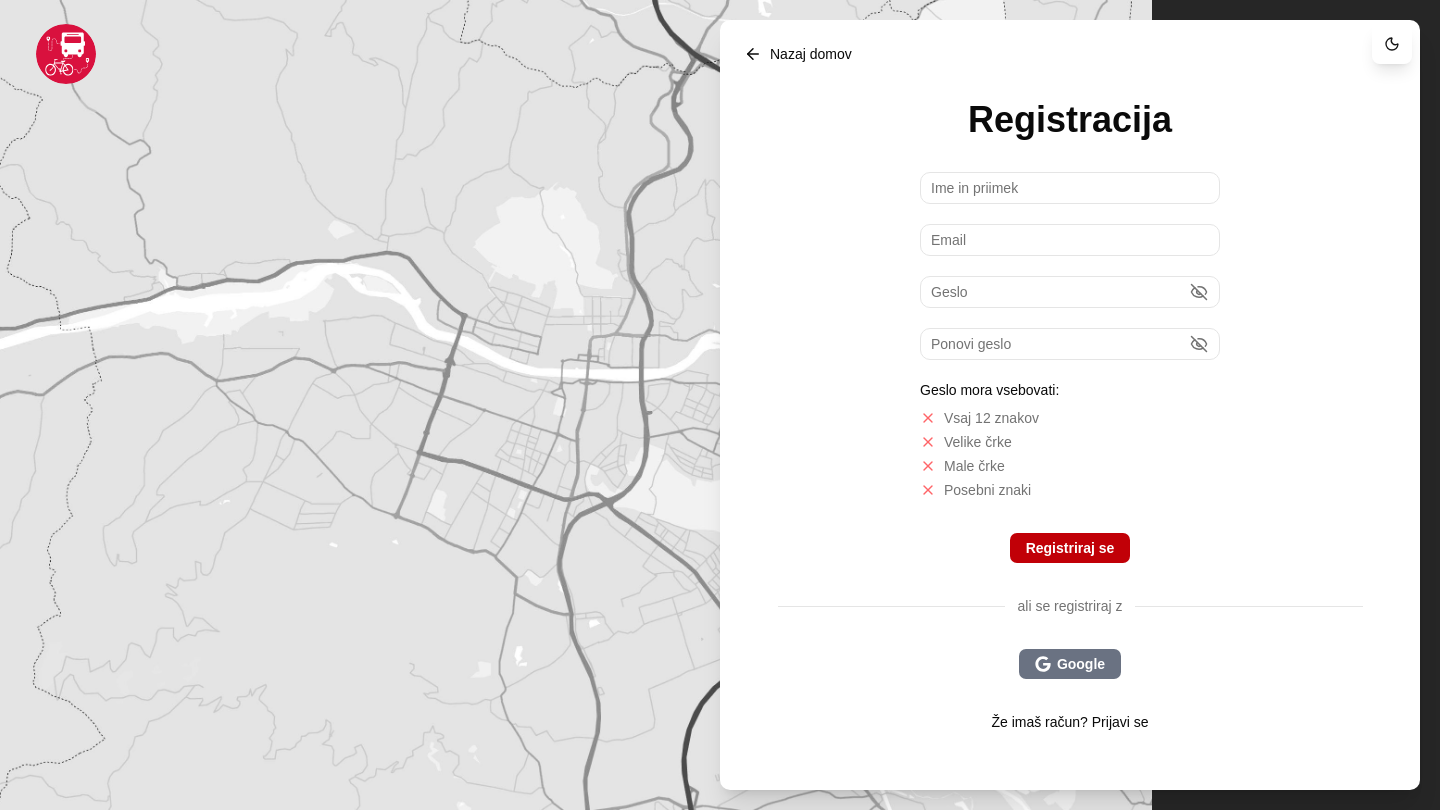
Test case: integracijski Login in Register › Register omogoča prikaz obeh gesel in navigacijo na login
Click the 1st button named "Prikaži geslo".
click(1199, 292)  # box [1190,283,1208,301]
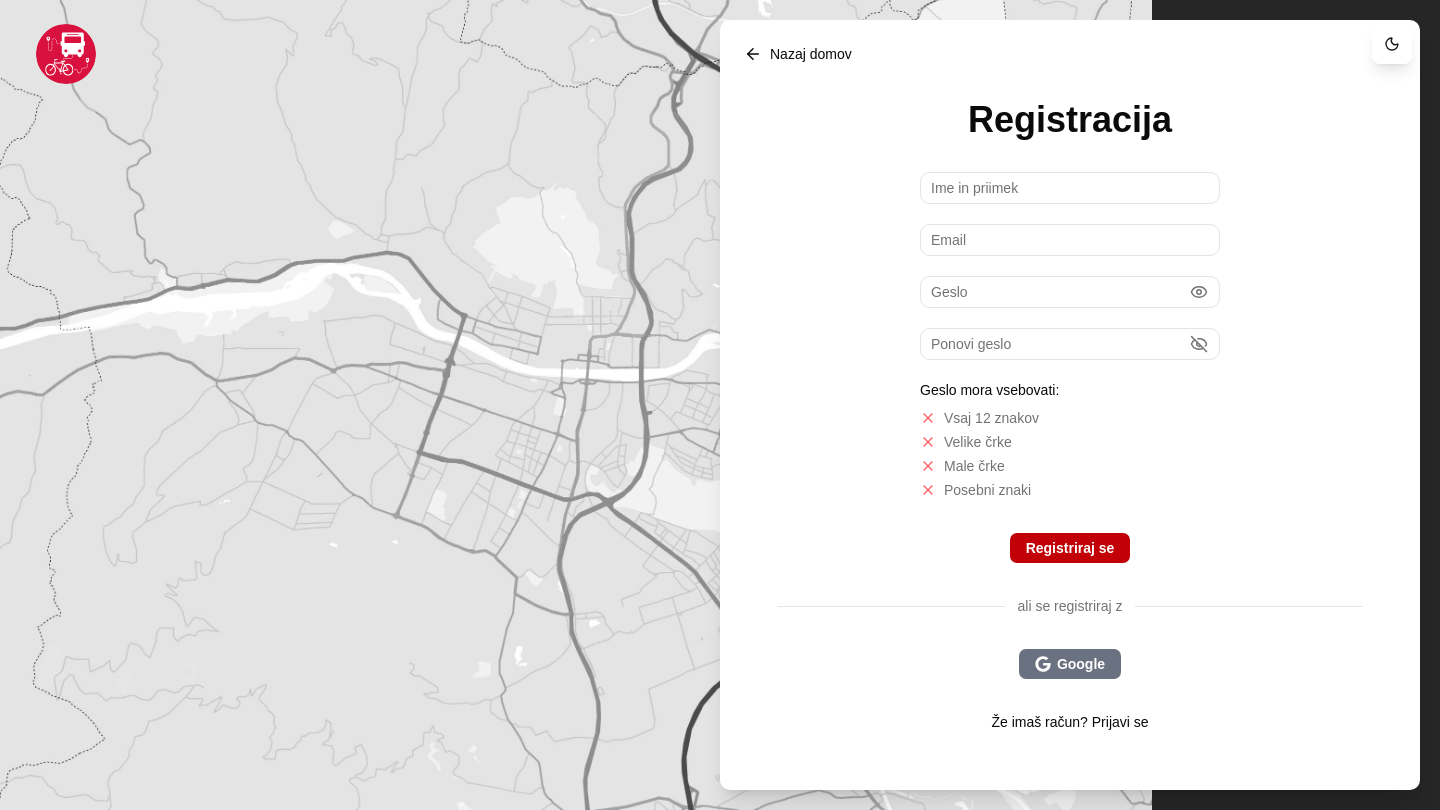
Click the button named "Prikaži geslo".
click(1199, 344)  # box [1190,335,1208,353]
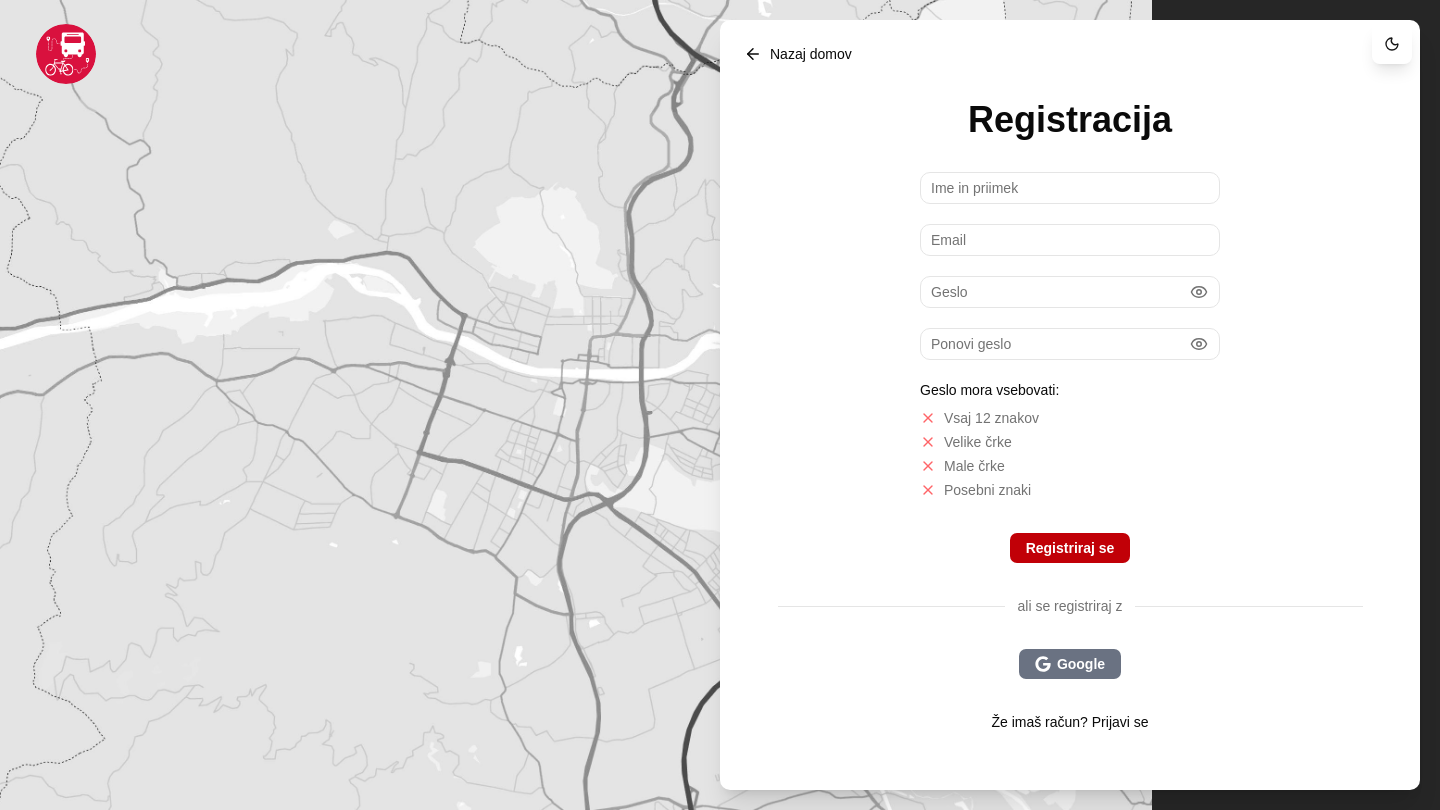
Click the button "Prijavi se".
click(1120, 722)  # box [1092,712,1149,732]
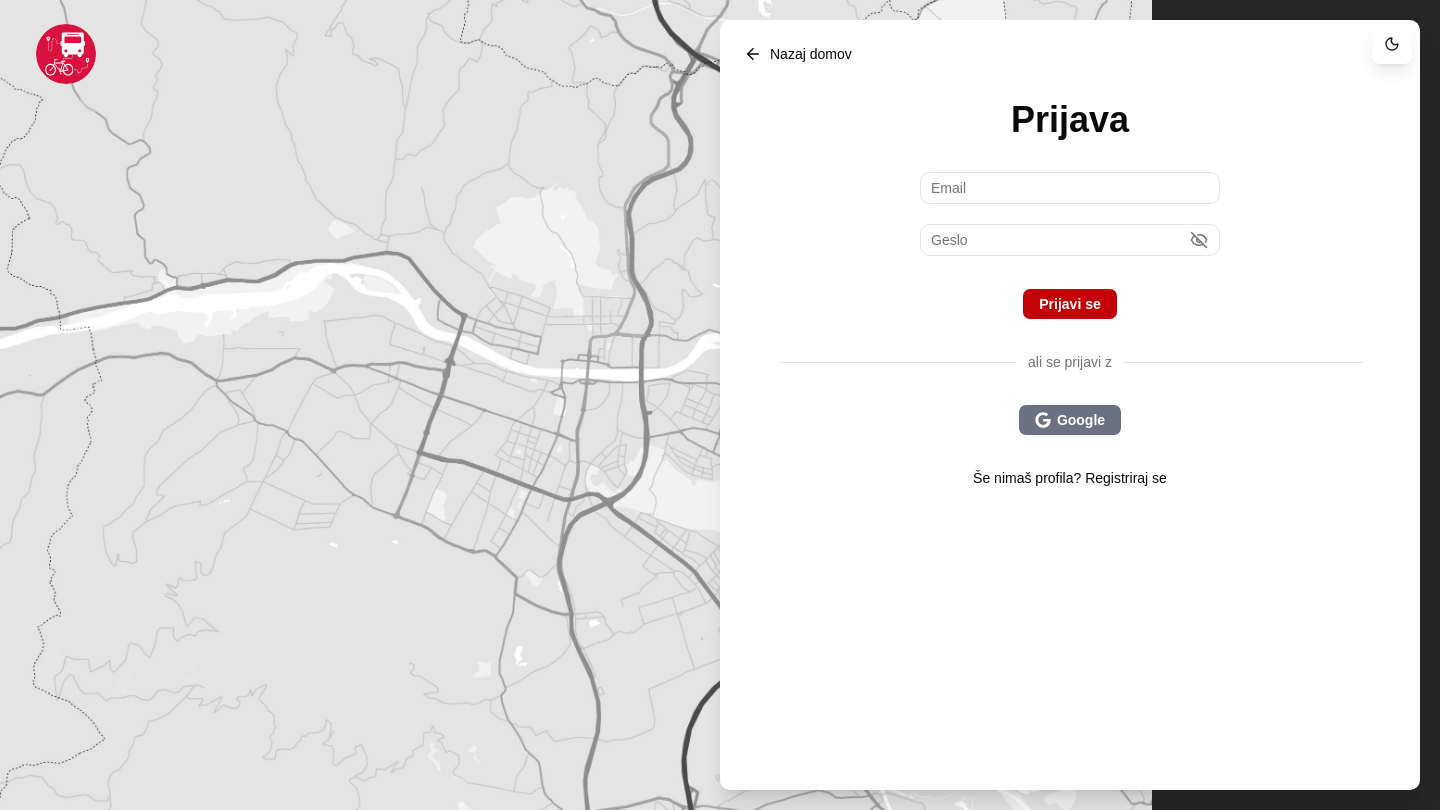
Expected: the heading "Prijava" is shown, [1011,100,1129,140]
